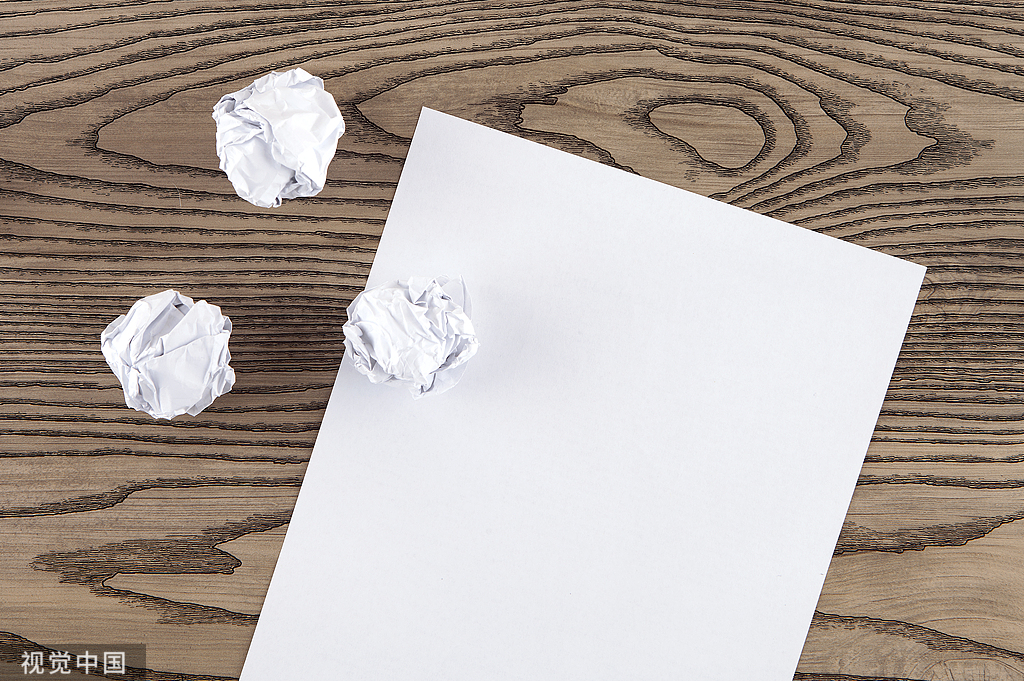Paper: (212, 66, 347, 207), (101, 287, 237, 419), (343, 274, 479, 392)
